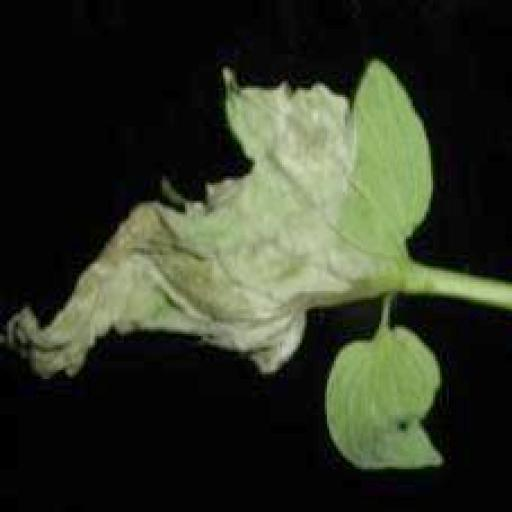Late Blight: (2, 50, 456, 476)
